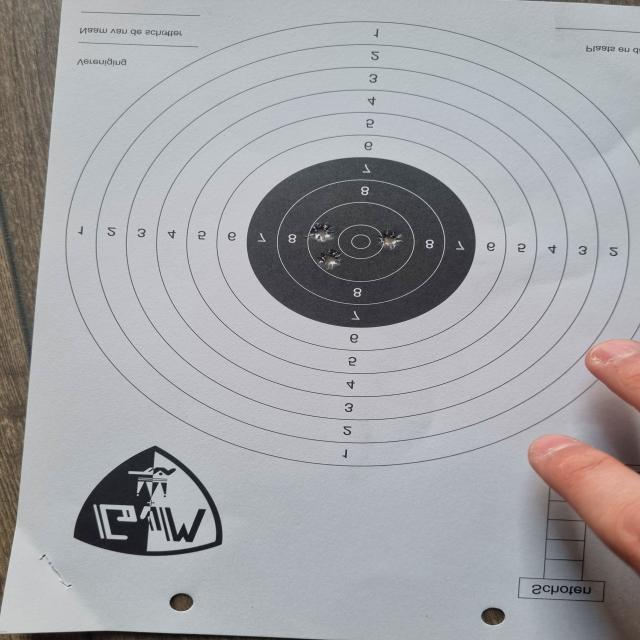10: (378, 230, 404, 250)
9: (306, 223, 335, 243), (318, 249, 342, 270)
Target: (63, 20, 640, 468)
black_contour: (246, 157, 477, 328)
